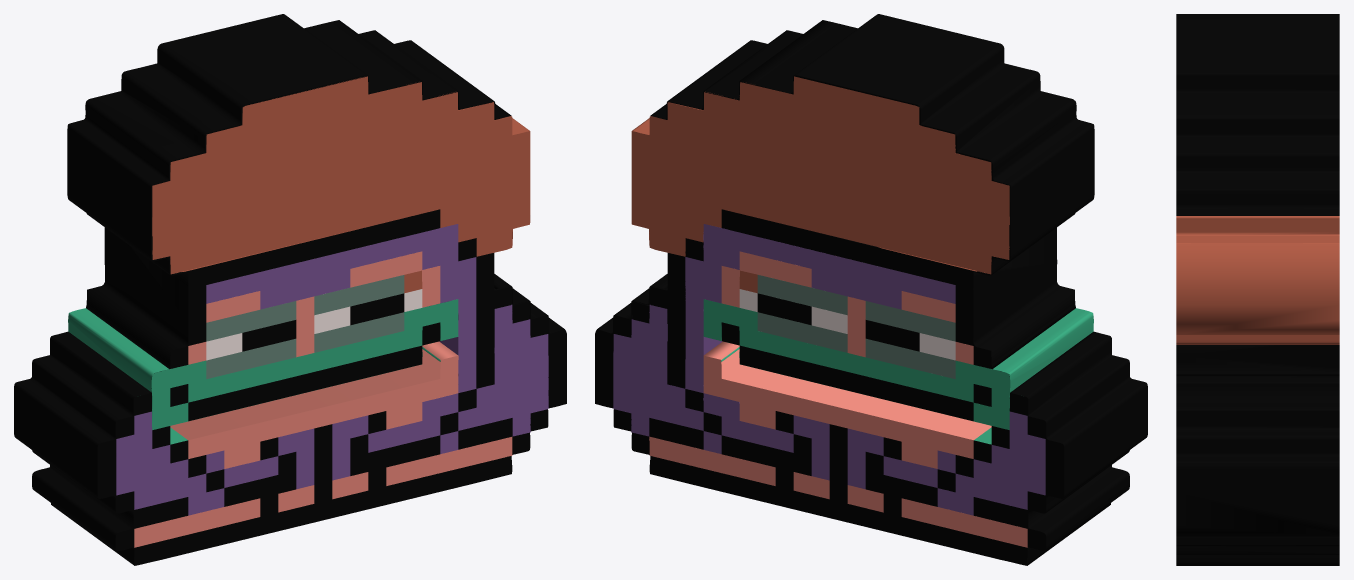
File: Toadz_6952.glb
The picture shows the model from 3 angles, left to right: view 1: azimuth 30°, elevation 25°; view 2: azimuth 150°, elevation 25°; view 3: azimuth 270°, elevation 25°; orthographic projection. The views are drawn at different scales.
Parts seen in each view (by area): view 1: Curve; view 2: Curve; view 3: Curve.
Part boxes in pixels (left/top/right/bottom): Curve: left=14, top=14, right=566, bottom=565; Curve: left=595, top=14, right=1147, bottom=565; Curve: left=1176, top=14, right=1339, bottom=565.
Size of the model in its own units: 3.24 by 2.87 by 1.
